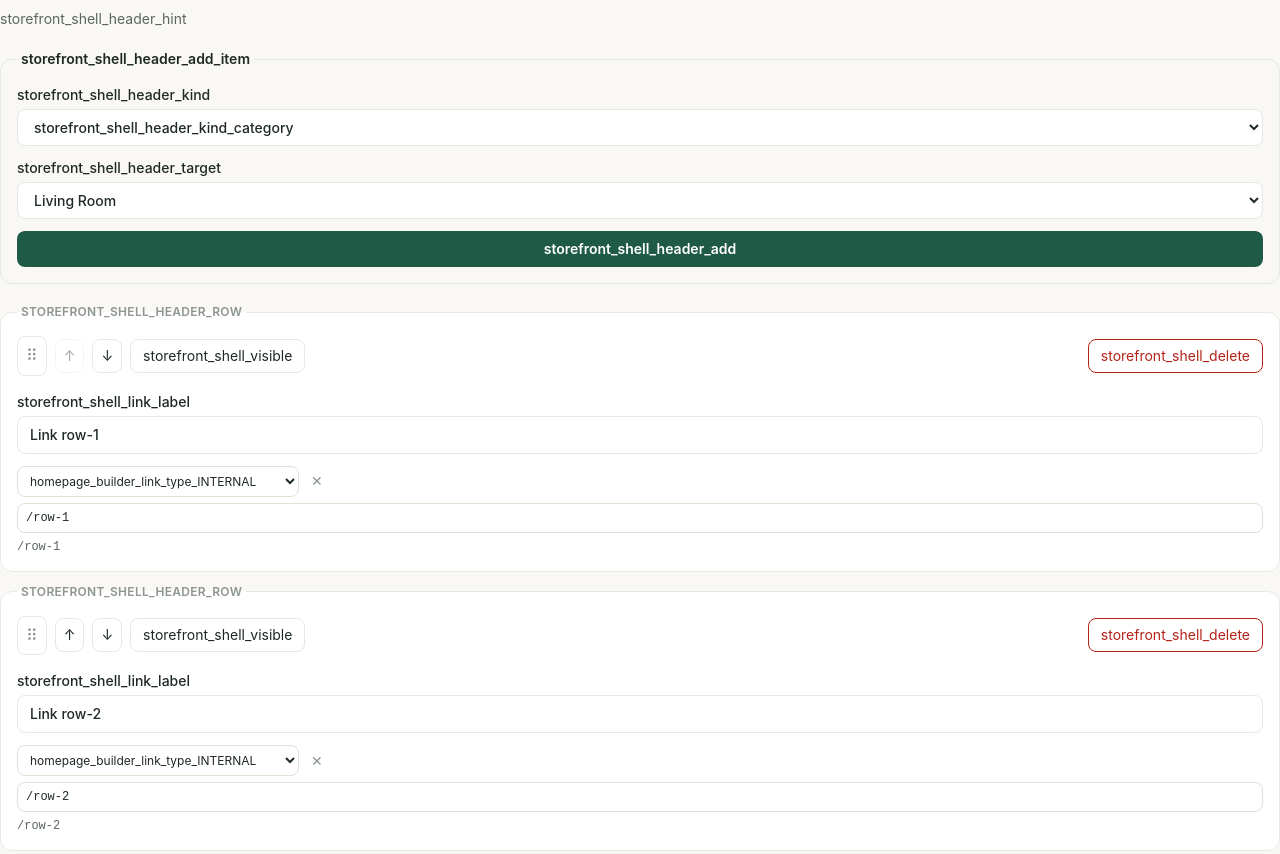
Test: HeaderContentEditor › allows a disabled ninth row but blocks enabling a ninth
This screenshot has width=1280, height=854.
Select "storefront_shell_header_kind_link" in the dropdown named "storefront_shell_header_add_kind" at (640, 128), box [17,109,1263,146]
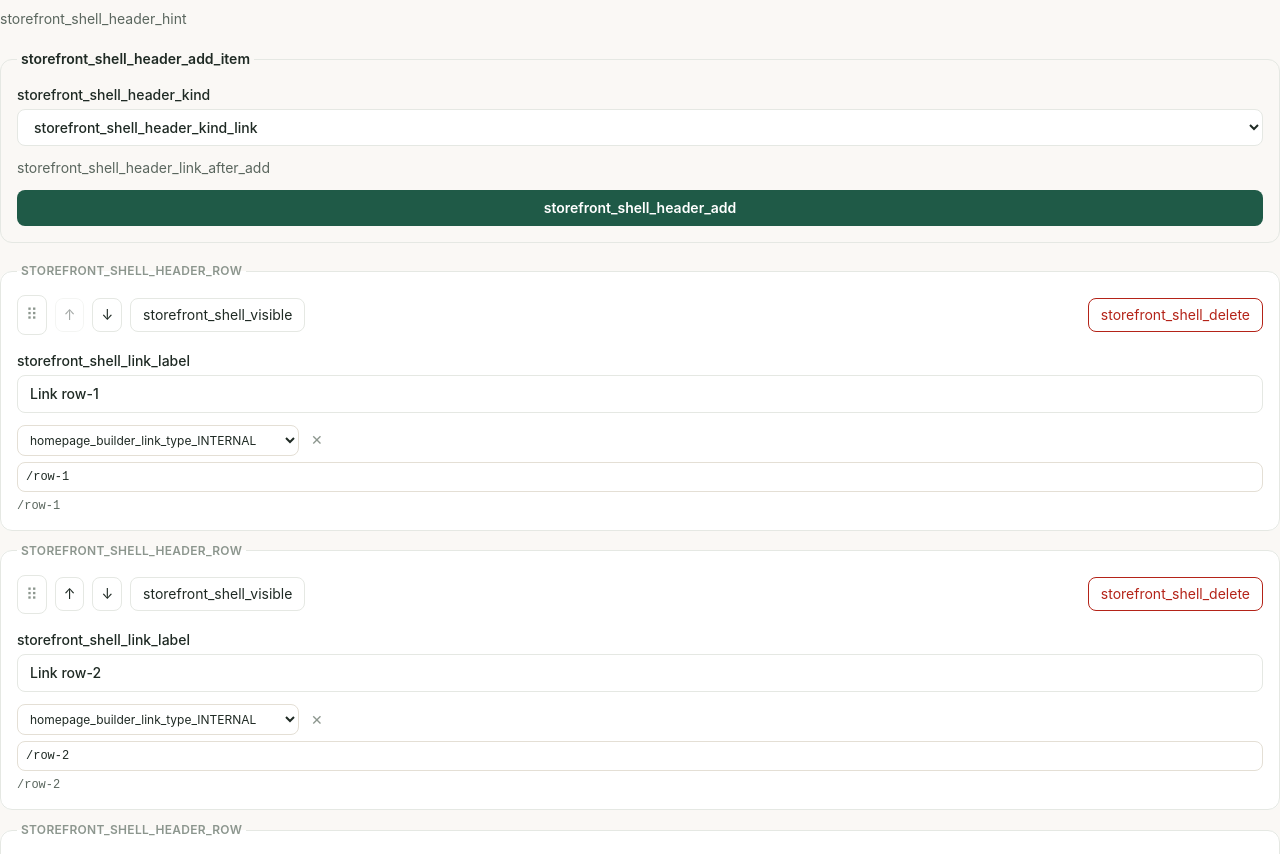
Click the button "storefront_shell_header_add" at (640, 208), box [17,190,1263,226]
(page scrolled)
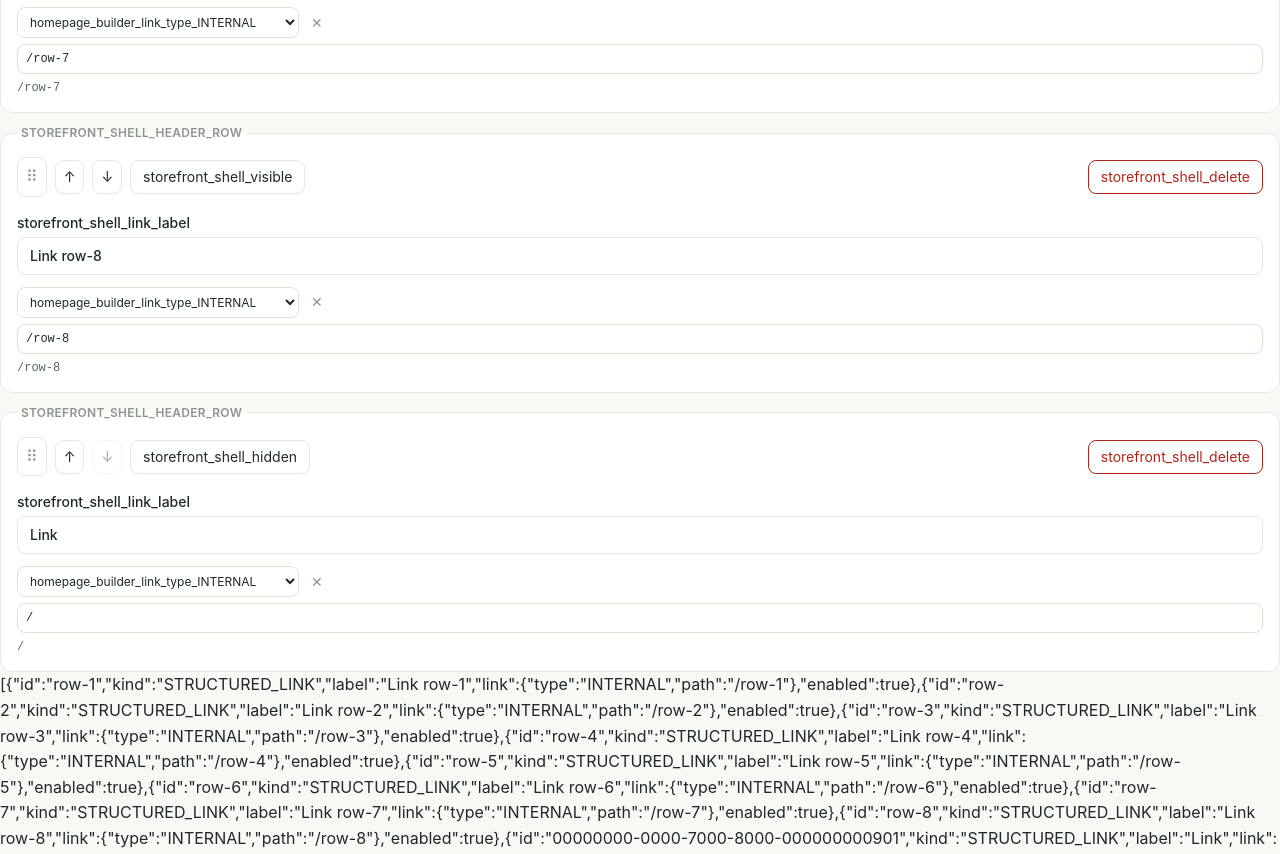
Click the button "storefront_shell_hidden" at (220, 456), box [130,440,310,474]
(page scrolled)
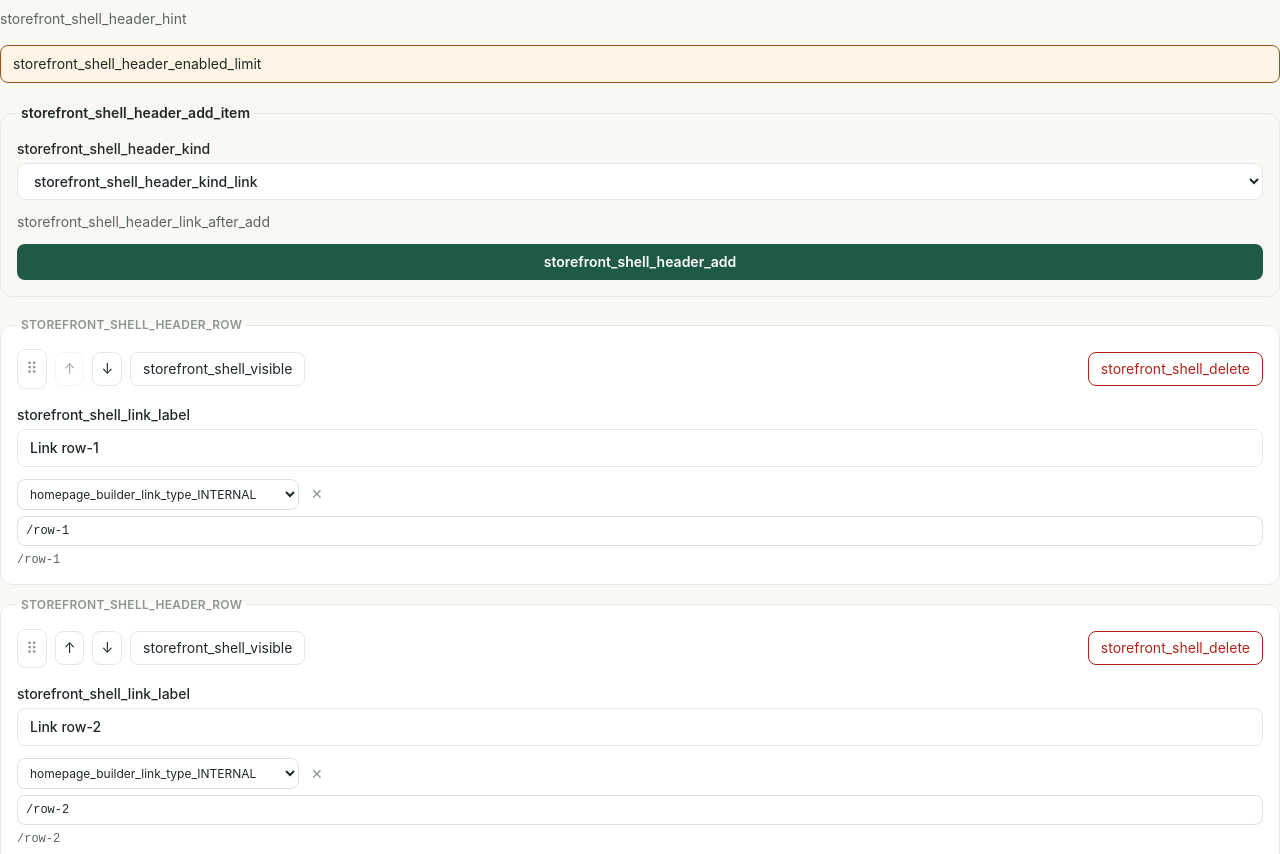
Now the message reads "storefront_shell_header_enabled_limit", box [13,55,262,72]
